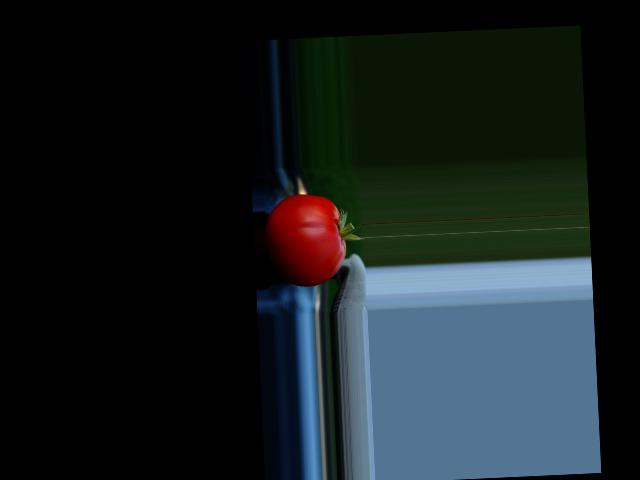tomato: (262, 192, 347, 288)
